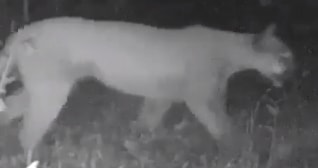Mountain Lion: (6, 6, 306, 164)
